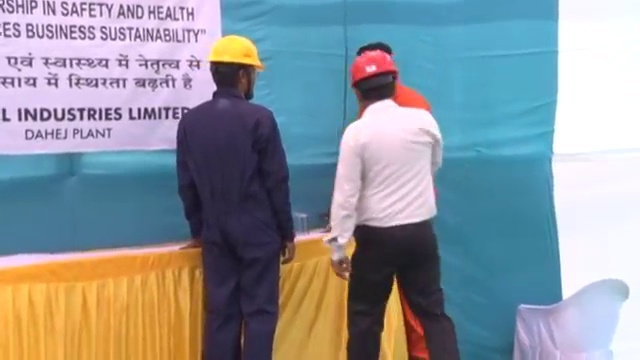helmet: (207, 33, 267, 71), (347, 50, 401, 85)
helmet_on: (207, 33, 267, 100), (345, 49, 401, 106)
person: (329, 50, 462, 360), (176, 33, 299, 360)
